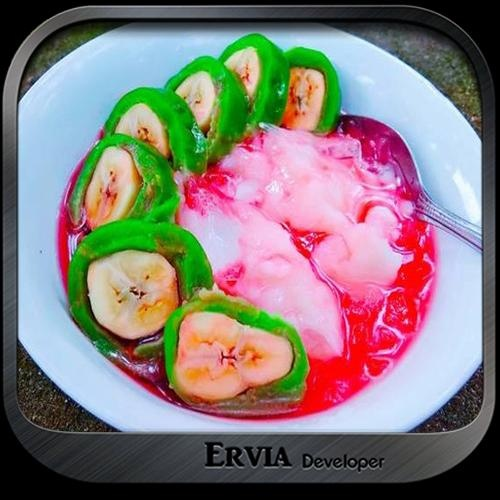pisang_ijo: (149, 292, 312, 405), (64, 228, 211, 353)
